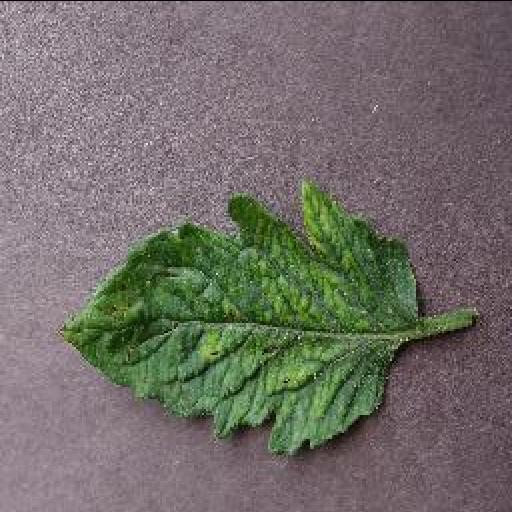Mosaic Virus: (61, 181, 423, 455)
